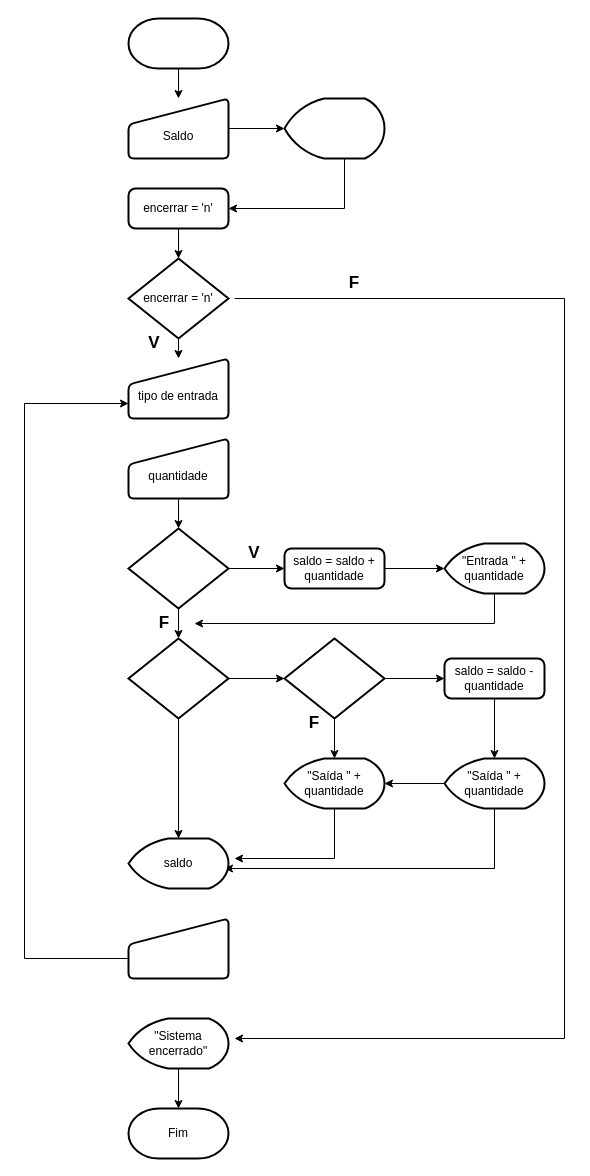
Some shapes in this 590 by 1176 pixel diagram are drawn without their labels. Each missing label, with the centre of its shape:
encerrar? (s/n): (178,948)
Inicio: (178,43)
saldo >= quantidade: (334,678)
Saldo inicial =+ saldo: (334,128)
tipo entrada = 1: (178,568)
tipo entrada = 2: (178,678)
